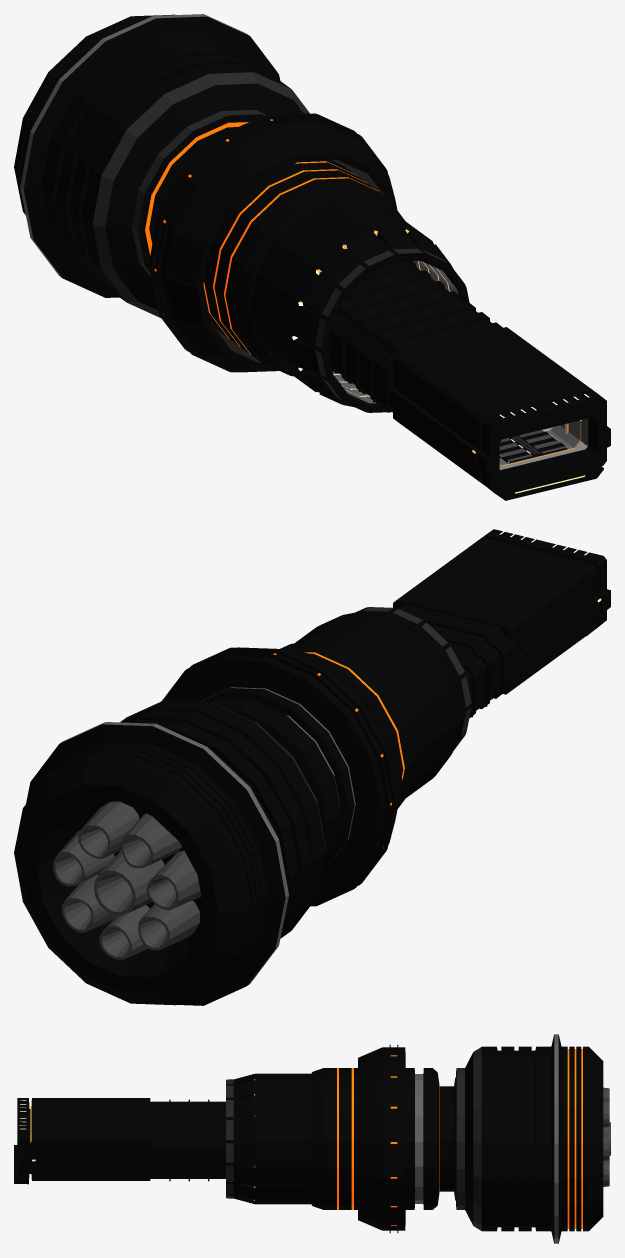
File: main_ship.fbx
3 views of the same model, one above another, from view 1: azimuth 30°, elevation 25°; view 2: azimuth 150°, elevation 25°; view 3: azimuth 270°, elevation 25° (orthographic). The views are drawn at different scales.
Parts seen in each view (by area): view 1: Cylinder.033, Cube.019, Cube.016; view 2: Cylinder.033, Cylinder.034, Cylinder.035; view 3: Cylinder.033, Cylinder.034.
Boxes of the visible parts, <box> form: Cylinder.033: <box>14,14,610,500</box>; Cube.019: <box>499,430,567,463</box>; Cube.016: <box>499,418,588,469</box>; Cylinder.033: <box>14,529,610,1005</box>; Cylinder.034: <box>53,801,201,959</box>; Cylinder.035: <box>93,850,164,915</box>; Cylinder.033: <box>14,1034,603,1243</box>; Cylinder.034: <box>603,1087,609,1186</box>.
Size of the model in its own units: 10791 by 10791 by 30724.
